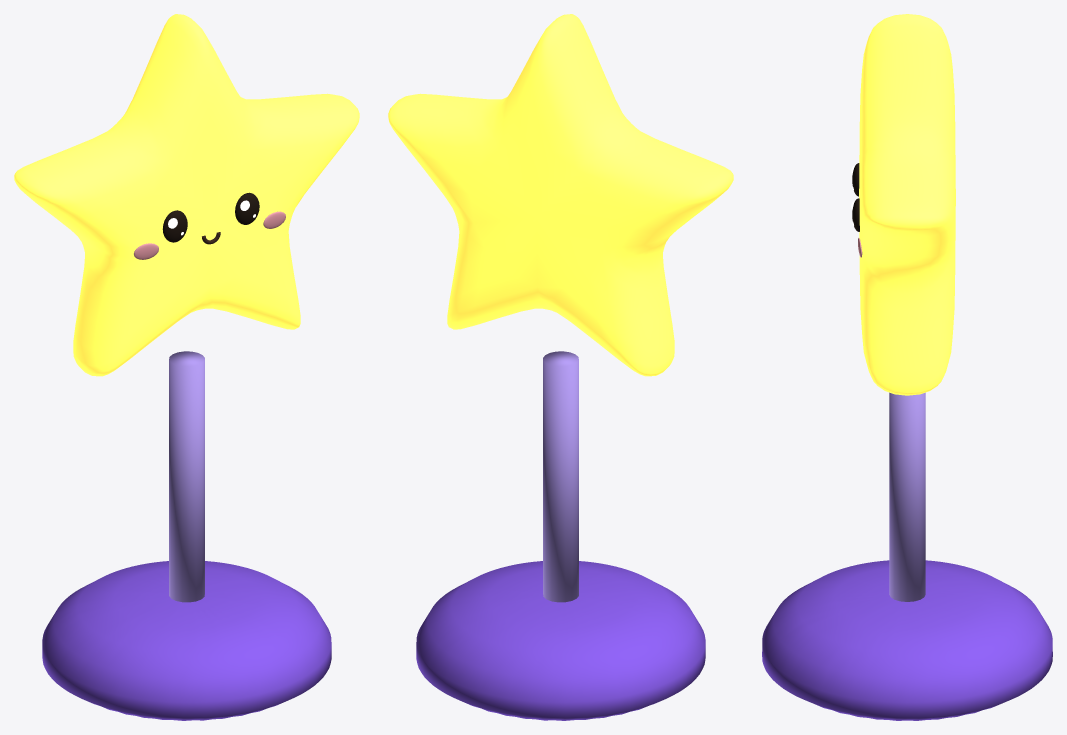
File: d-lamp.glb
3 renders of one model, left to right at view 1: azimuth 30°, elevation 25°; view 2: azimuth 150°, elevation 25°; view 3: azimuth 270°, elevation 25°, orthographic.
Parts seen in each view (by area): view 1: d-lamp; view 2: d-lamp; view 3: d-lamp.
Part boxes in pixels (<box>): d-lamp: <box>14,14,359,720</box>; d-lamp: <box>388,14,733,720</box>; d-lamp: <box>762,14,1052,720</box>.
Size of the model in its own units: 0.1166 by 0.22 by 0.0882.
